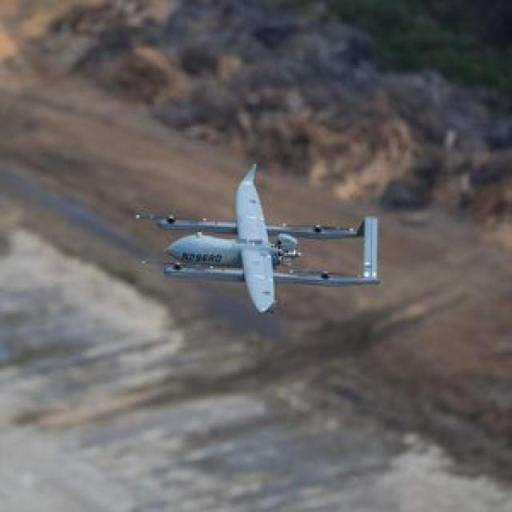uav: (132, 160, 394, 312)
